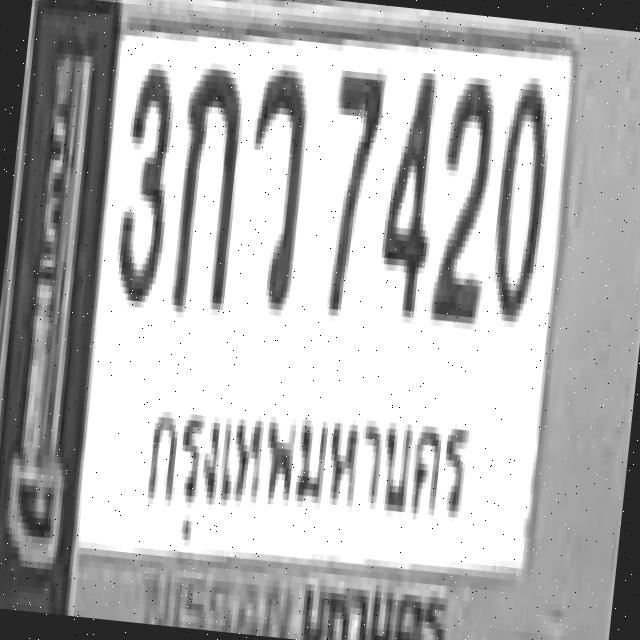0: (483, 75, 552, 316)
10GorGai: (164, 60, 246, 309)
2: (426, 69, 498, 317)
3: (109, 61, 178, 303)
4: (372, 64, 444, 312)
46WorWaen: (235, 62, 313, 310)
7: (314, 64, 383, 312)
Bangkok: (130, 371, 484, 570)
